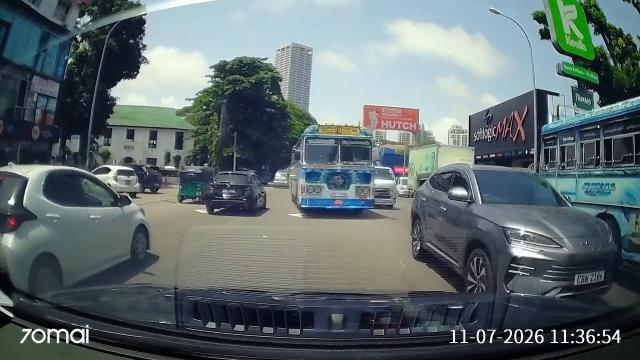illegal overtaking: (271, 108, 380, 213)
